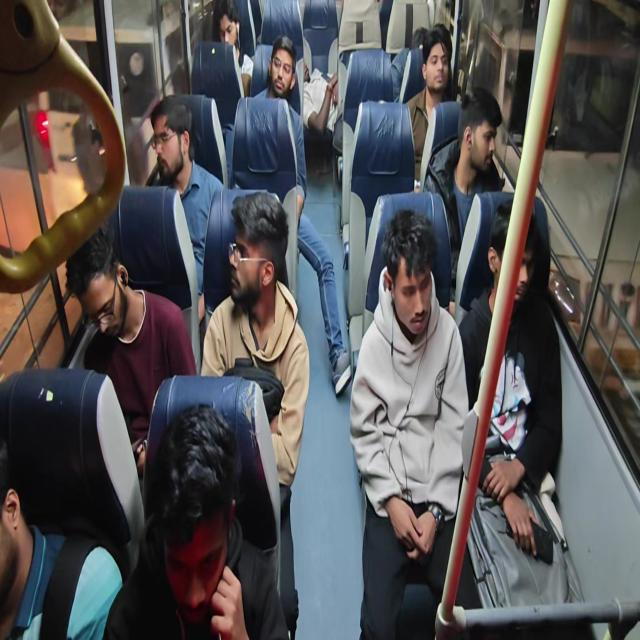person: (148, 401, 236, 614), (378, 210, 446, 353), (62, 221, 136, 346), (224, 198, 293, 314), (479, 200, 542, 316), (0, 424, 35, 592), (146, 96, 198, 187), (461, 81, 501, 179), (421, 28, 452, 96), (271, 36, 298, 98), (215, 0, 244, 50), (406, 24, 428, 50)
